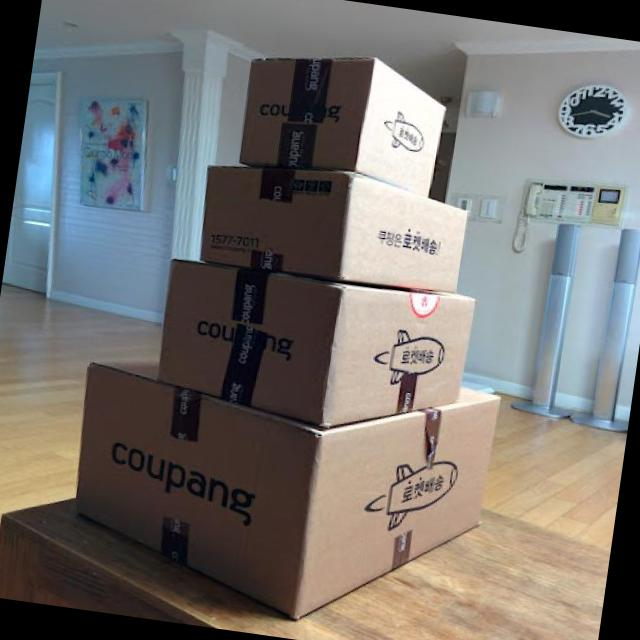box: (77, 362, 501, 621), (155, 258, 478, 427), (199, 165, 472, 295), (238, 56, 448, 198)
